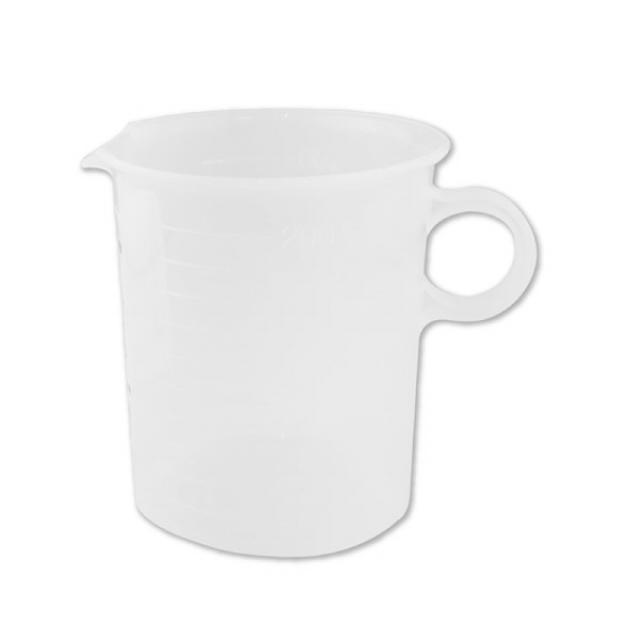Plastic: (83, 100, 543, 563)
